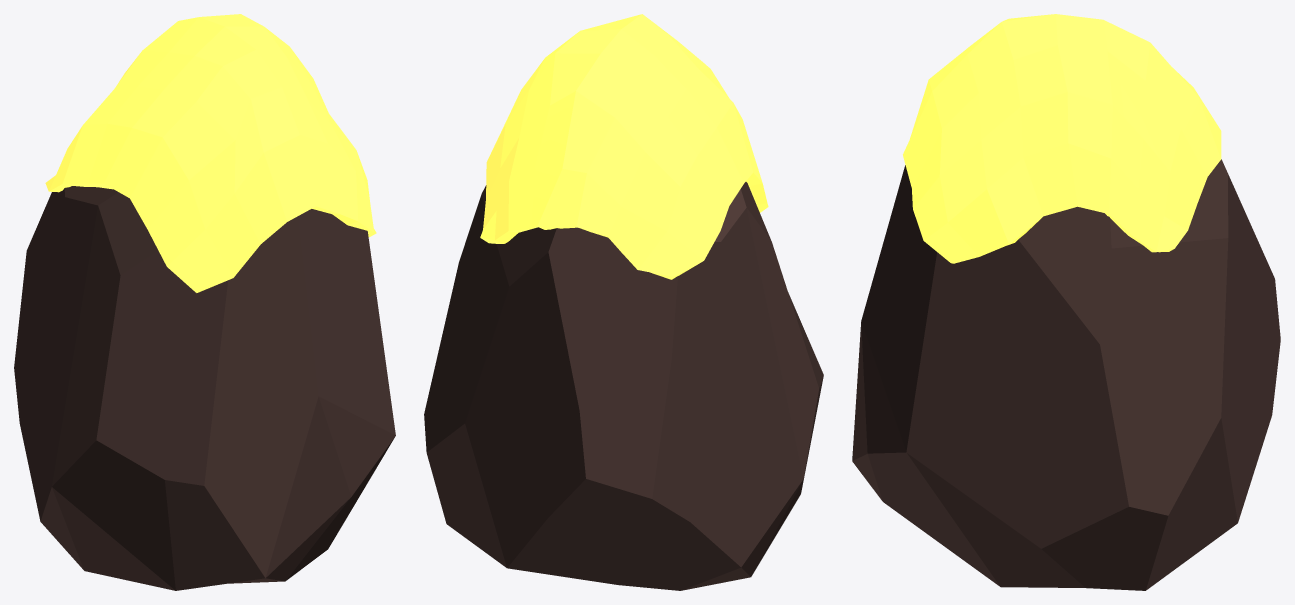
File: ValcanoStone1.fbx
3 views of the same model, side by side, from view 1: azimuth 30°, elevation 25°; view 2: azimuth 150°, elevation 25°; view 3: azimuth 270°, elevation 25° (orthographic). The views are drawn at different scales.
Visible parts, largest first — view 1: Cube; view 2: Cube; view 3: Cube.
Part boxes in pixels (box(x1,y1,x2,y2)): Cube: box(14, 14, 395, 590); Cube: box(424, 14, 823, 590); Cube: box(852, 14, 1280, 590).
Size of the model in its own units: 271 by 406 by 287.
